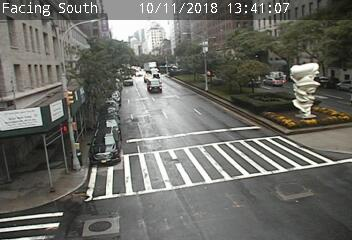car: (90, 127, 121, 167), (147, 78, 163, 93), (263, 77, 285, 87)
